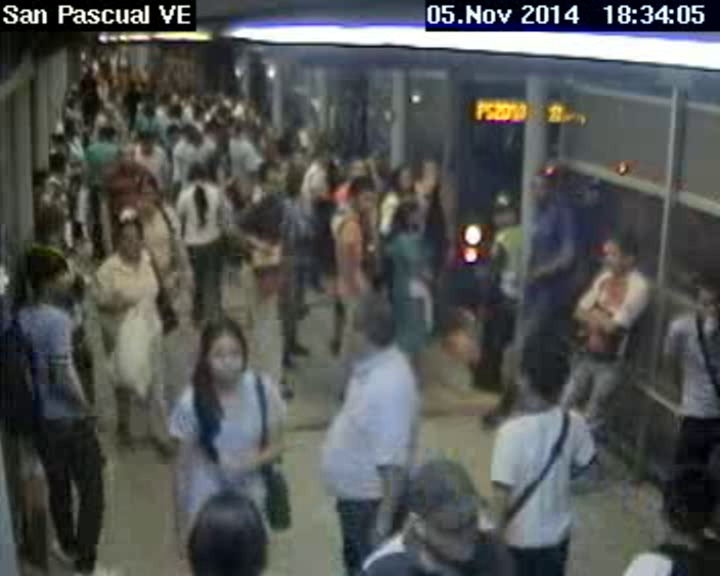person: (396, 458, 492, 568), (183, 482, 278, 576), (638, 452, 710, 550), (500, 329, 567, 415), (190, 319, 249, 392), (337, 292, 401, 358), (23, 246, 79, 303), (685, 266, 720, 329), (596, 227, 641, 275), (110, 214, 146, 264), (485, 190, 526, 232), (526, 159, 558, 209), (345, 172, 375, 218), (133, 173, 161, 214), (395, 196, 422, 238), (259, 158, 286, 197), (386, 161, 416, 193), (184, 156, 211, 191), (337, 150, 366, 181), (136, 123, 160, 158), (27, 165, 50, 201), (48, 148, 68, 181), (309, 146, 334, 166), (93, 124, 113, 145), (230, 120, 246, 142), (180, 124, 197, 144)
